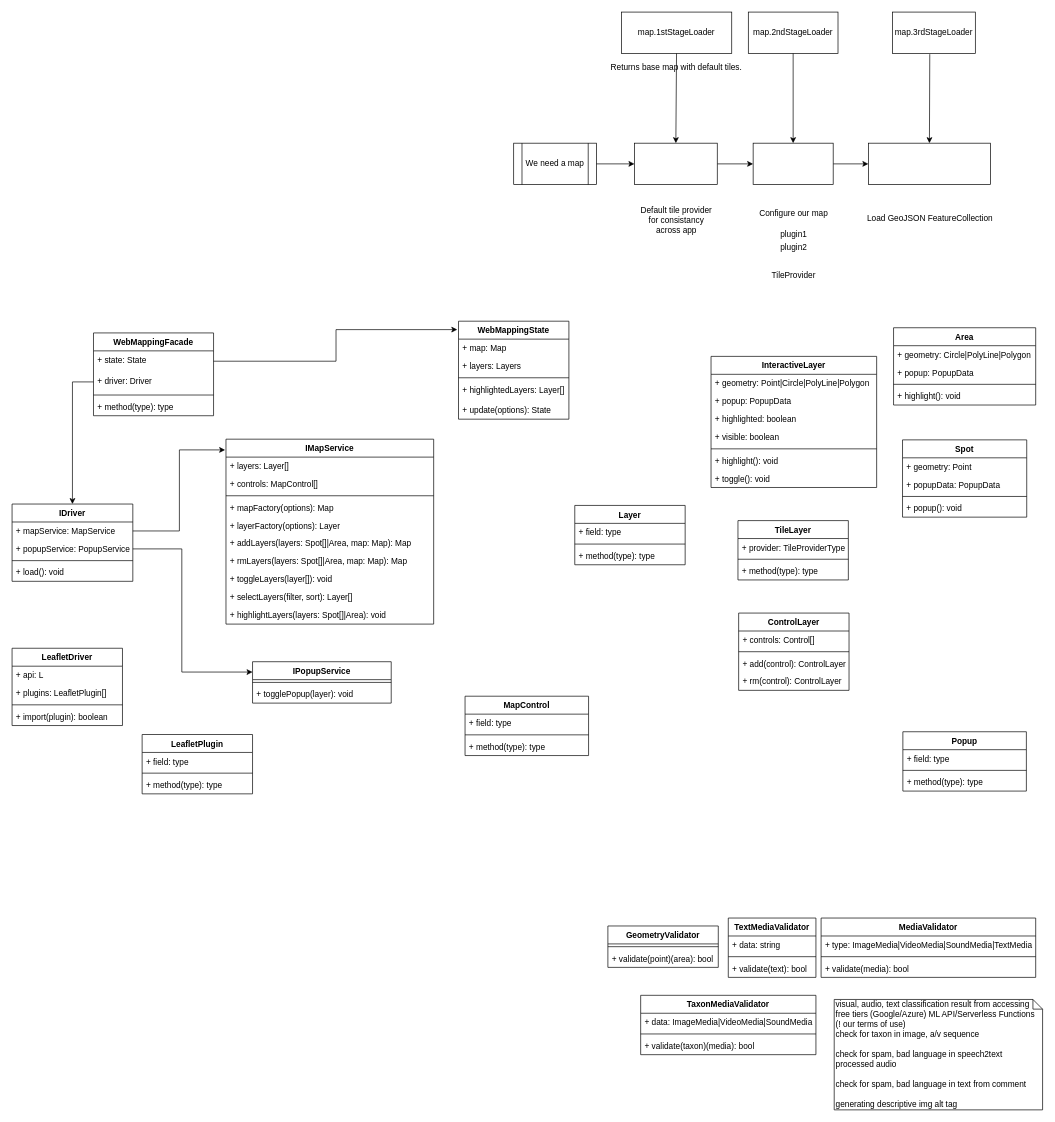
The diagram is 1055 pixels wide and 1122 high, and some of its shapes have lost their labels. Each missing label, with the centre of its shape:
"config" goes at point (792, 163).
"I can haz layerz and markerz" goes at point (929, 163).
"map displayed" goes at point (675, 163).
